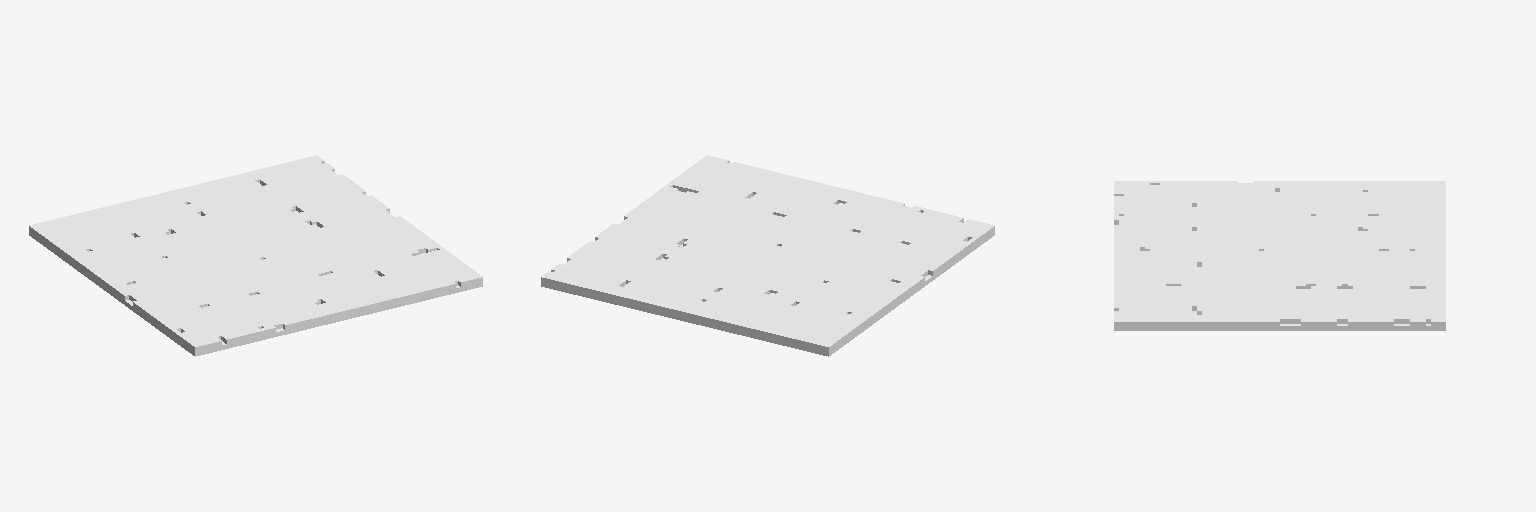
File: Tutorialmap_V2_unfinished-25.obj
3 views of the same model, side by side, from view 1: azimuth 30°, elevation 25°; view 2: azimuth 150°, elevation 25°; view 3: azimuth 270°, elevation 25° (orthographic).
Visible parts, largest first — view 1: object 1; view 2: object 1; view 3: object 1.
Part boxes in pixels (left/top/right/bottom): object 1: left=29, top=155, right=482, bottom=356; object 1: left=541, top=155, right=994, bottom=356; object 1: left=1114, top=181, right=1445, bottom=330.
Bounding box in the file's own units: 6.4 × 0.2 × 6.4.